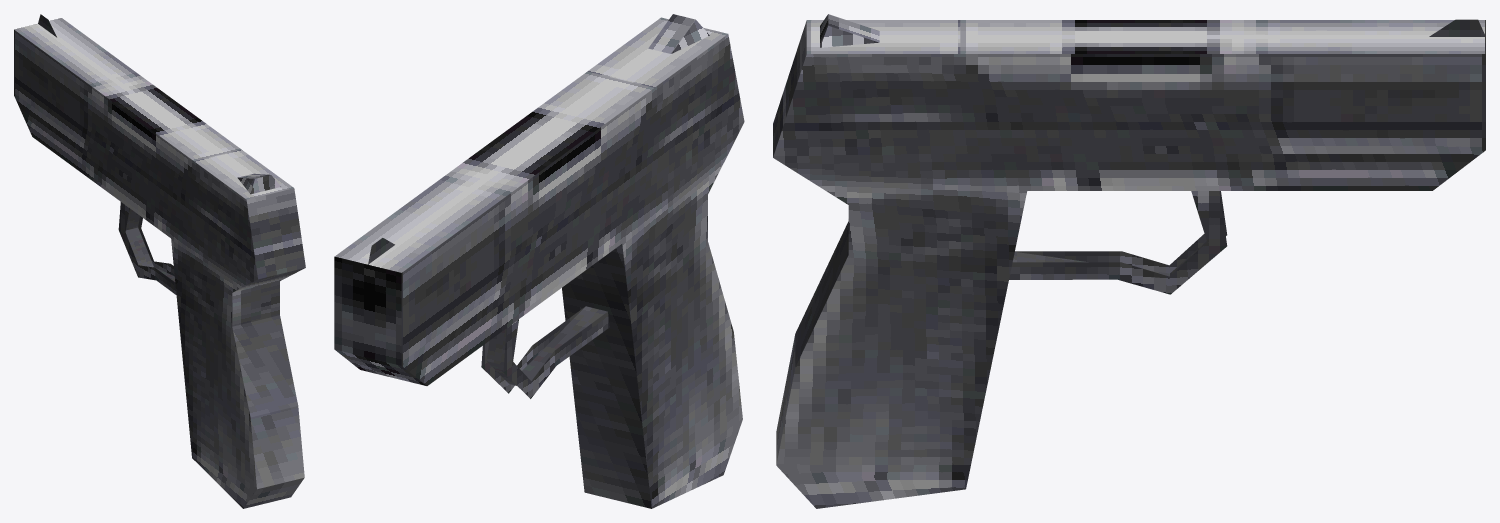
The model's file is recovered_gun_fiveseven.glb.
3 views of the same model, side by side, from view 1: azimuth 30°, elevation 25°; view 2: azimuth 150°, elevation 25°; view 3: azimuth 270°, elevation 25° (orthographic). The views are drawn at different scales.
Parts seen in each view (by area): view 1: Gun_ccd0f1141ca0; view 2: Gun_ccd0f1141ca0; view 3: Gun_ccd0f1141ca0.
Part boxes in pixels (box(x1,y1,x2,y2)): Gun_ccd0f1141ca0: box(14, 14, 305, 508); Gun_ccd0f1141ca0: box(334, 14, 744, 508); Gun_ccd0f1141ca0: box(773, 14, 1485, 508).
Bounding box in the file's own units: 0.0304 × 0.1965 × 0.2689.
Materials: 1 (1 with a texture image).
